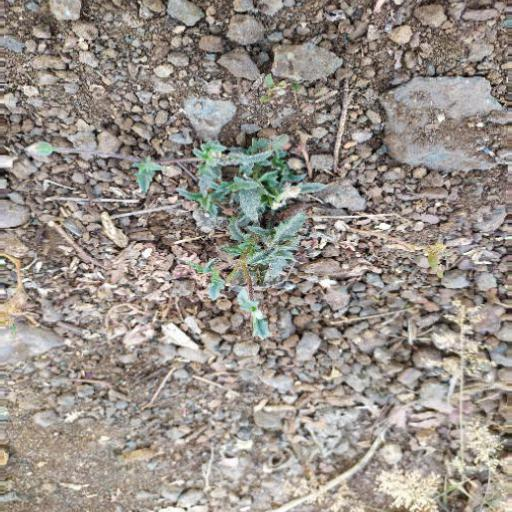weed: (132, 112, 320, 371)
